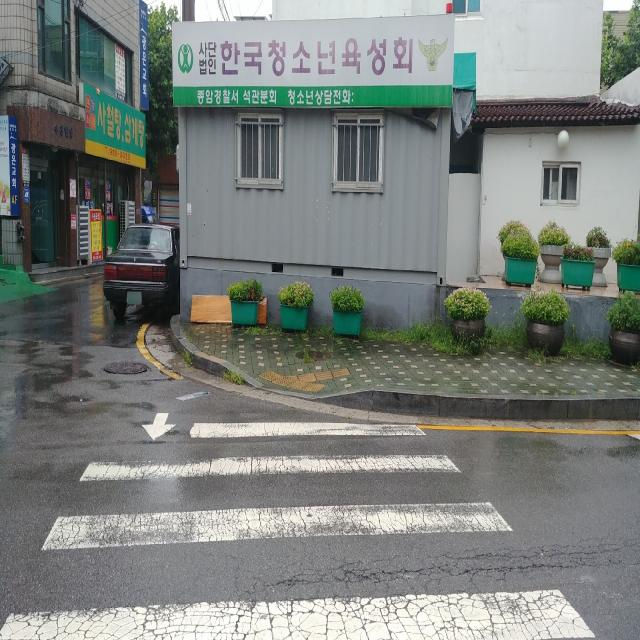횡단보도: (0, 404, 599, 640)
